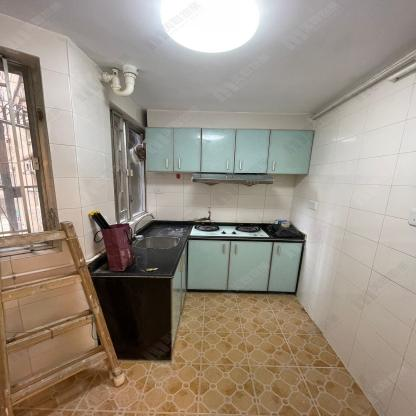Cupboard: (148, 125, 318, 175), (188, 240, 299, 293)
Exhaust Hood: (191, 173, 276, 186)
Faucet: (130, 212, 158, 239)
Sink: (137, 236, 185, 251)
Stove: (191, 222, 272, 239)
